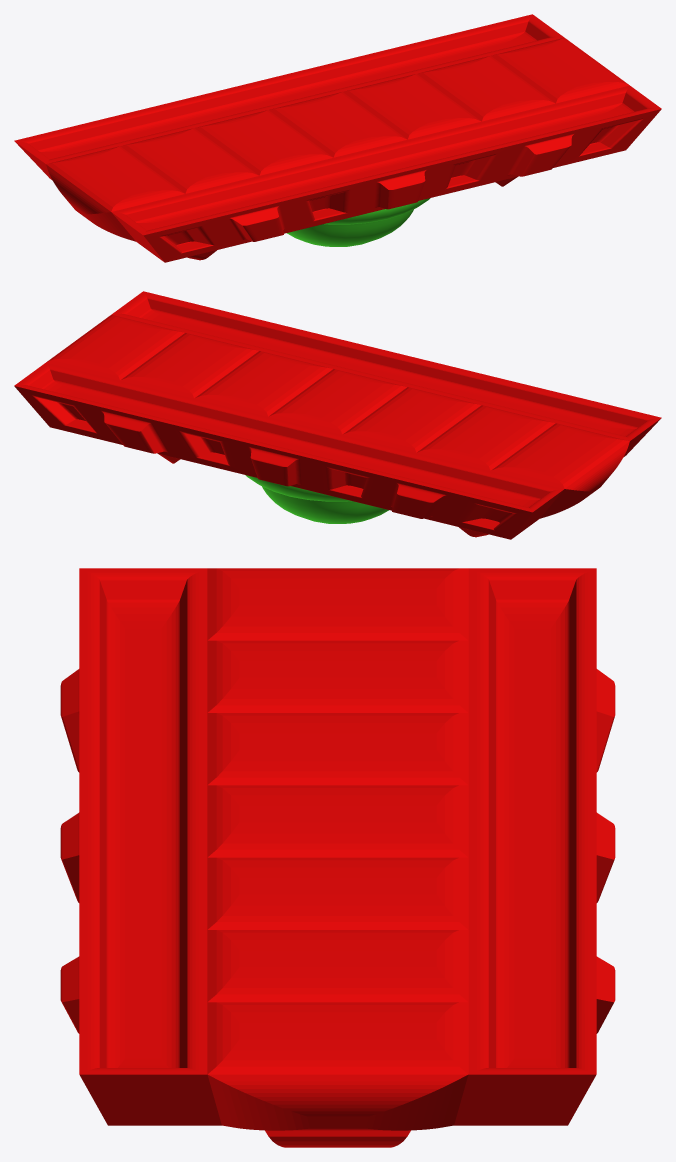
Rendered from PlataformaRetro.fbx.
The picture shows the model from 3 angles, top to bottom: view 1: azimuth 30°, elevation 25°; view 2: azimuth 150°, elevation 25°; view 3: azimuth 270°, elevation 25°; orthographic projection. The views are drawn at different scales.
Visible parts, largest first — view 1: Cube, Cube.001; view 2: Cube, Cube.001; view 3: Cube.
Part boxes in pixels (box(x1,y1,x2,y2)): Cube: box(14, 14, 661, 262); Cube.001: box(287, 198, 430, 246); Cube: box(14, 291, 661, 539); Cube.001: box(245, 475, 388, 523); Cube: box(60, 568, 615, 1147).
Bounding box in the file's own units: 4996 × 1051 × 2282.
